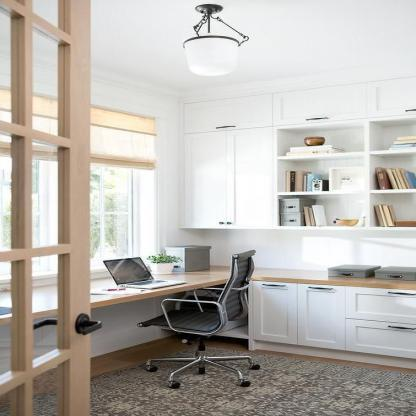chair: (136, 248, 262, 394)
door: (0, 0, 104, 416)
light: (169, 4, 264, 88)
table: (4, 261, 416, 384)
